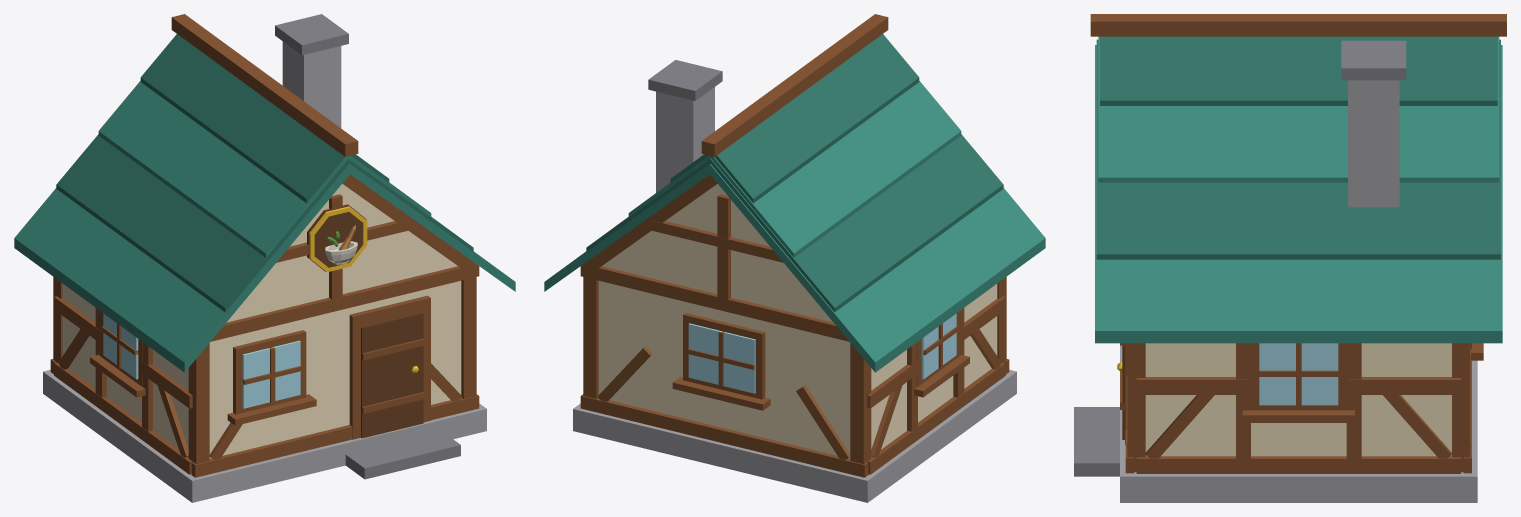
Rendered from prop-apothecary.glb.
3 renders of one model, left to right at view 1: azimuth 30°, elevation 25°; view 2: azimuth 150°, elevation 25°; view 3: azimuth 270°, elevation 25°, orthographic. The views are drawn at different scales.
Visible parts, largest first — view 1: Apothecary; view 2: Apothecary; view 3: Apothecary.
Boxes of the visible parts, x1,y1,x2,y2 form: Apothecary: (14, 14, 515, 502); Apothecary: (544, 14, 1045, 502); Apothecary: (1074, 14, 1506, 502).
Bounding box in the file's own units: 5.5 × 5.41 × 5.2.
